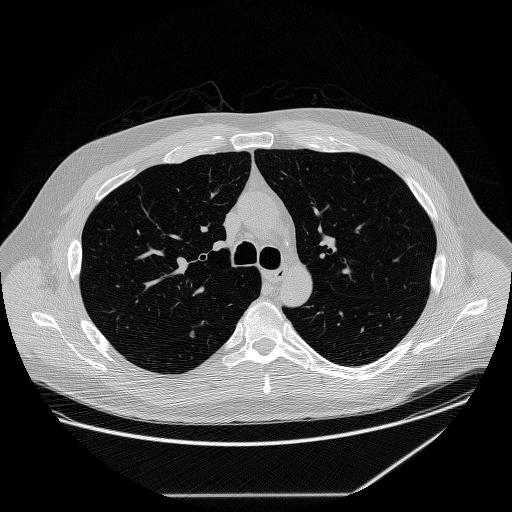nodule: (187, 330, 197, 340)
